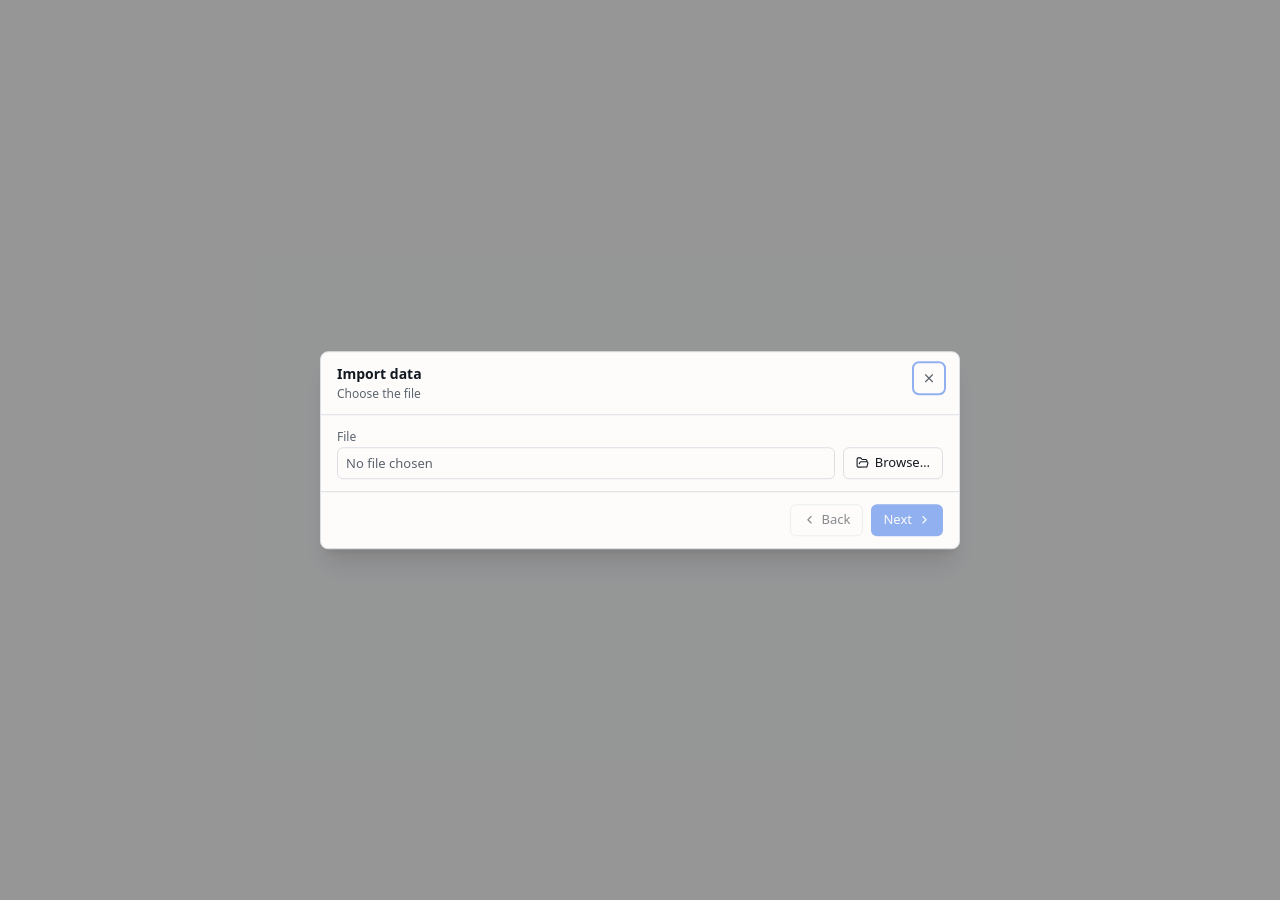
ImportWizard › shows a failing preview
The width and height of the screenshot is (1280, 900).
Click the button "Browse…".
click(893, 463)  # box [843, 447, 943, 479]
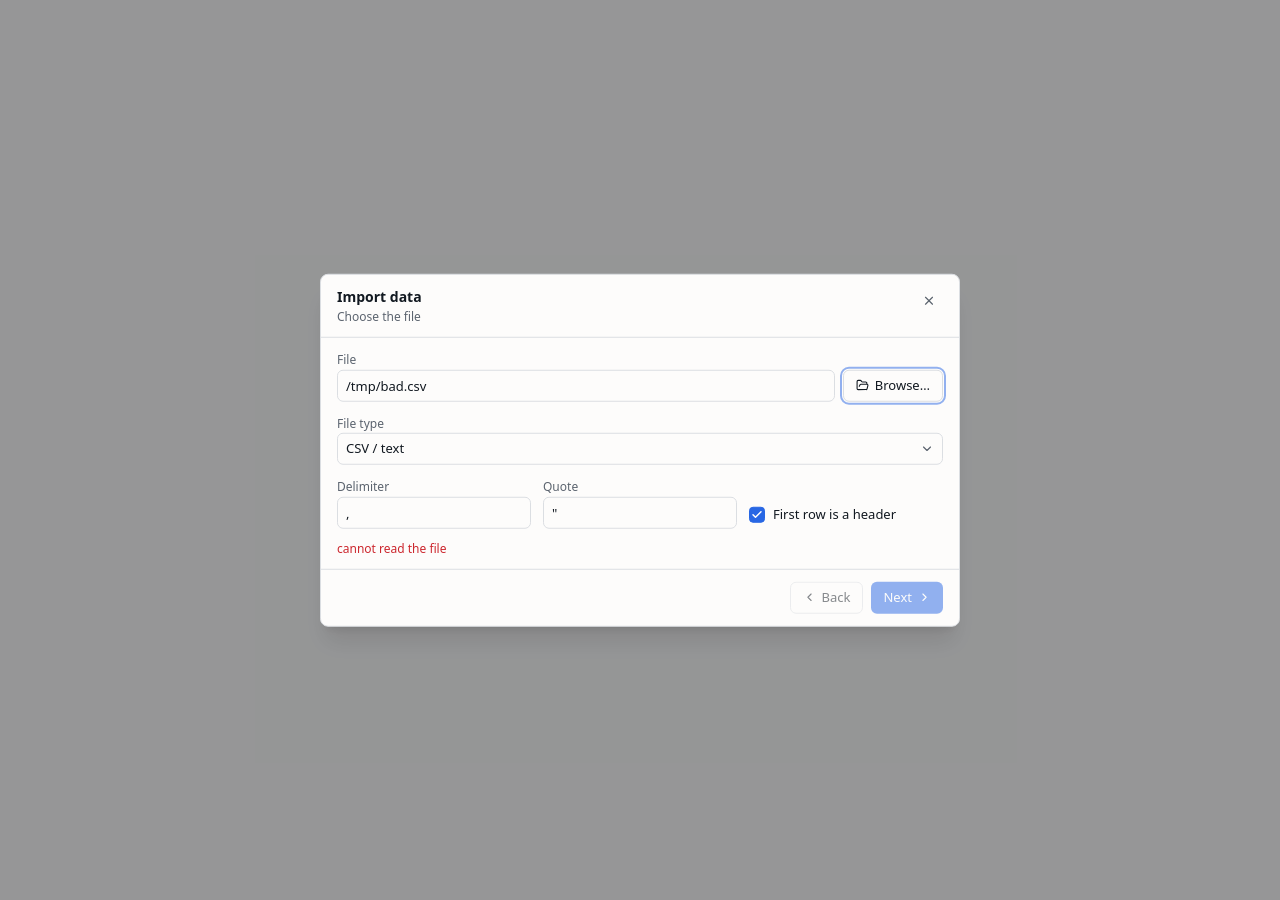
Expected: the button "Next" is disabled, [872, 581, 943, 613]
Expected: the field labelled "File" holds "/tmp/bad.csv", [337, 369, 835, 401]
Expected: the message reads "cannot read the file", [337, 539, 446, 556]
